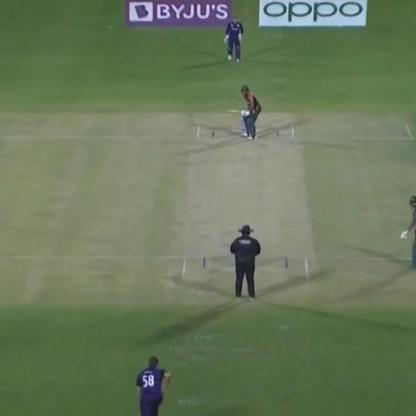bat: (224, 100, 250, 122)
pitch: (175, 130, 306, 289)
